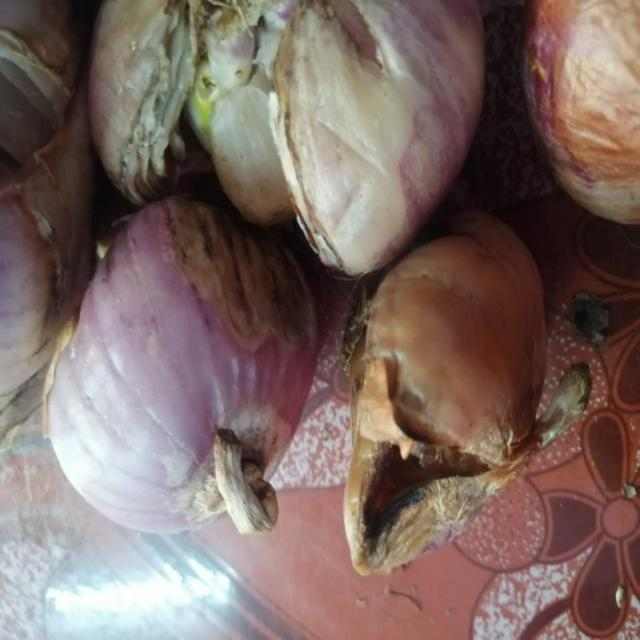rotten: (158, 45, 294, 224), (173, 192, 308, 336), (362, 425, 506, 553)
